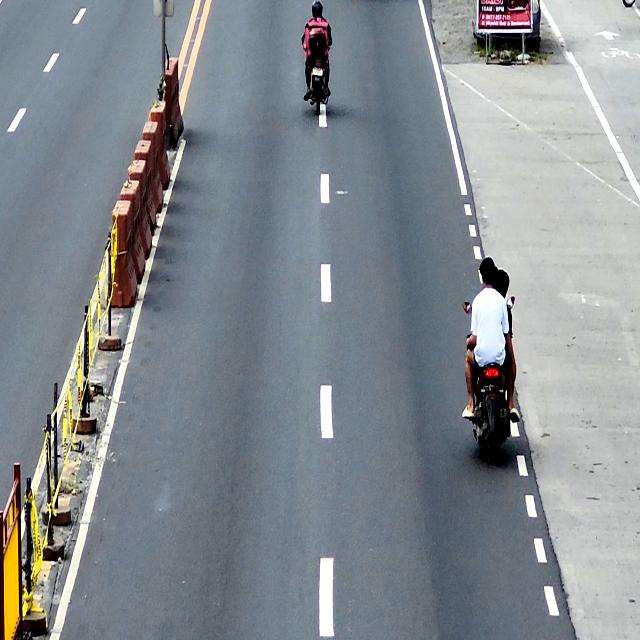License-Plate: (312, 66, 324, 76)
Motorcycle: (462, 296, 516, 464), (302, 27, 332, 116)
